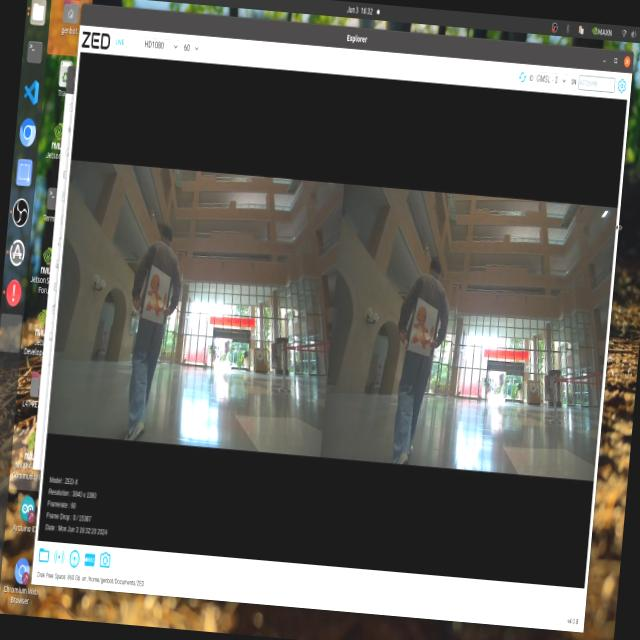red: (134, 253, 184, 333), (408, 300, 437, 360)
